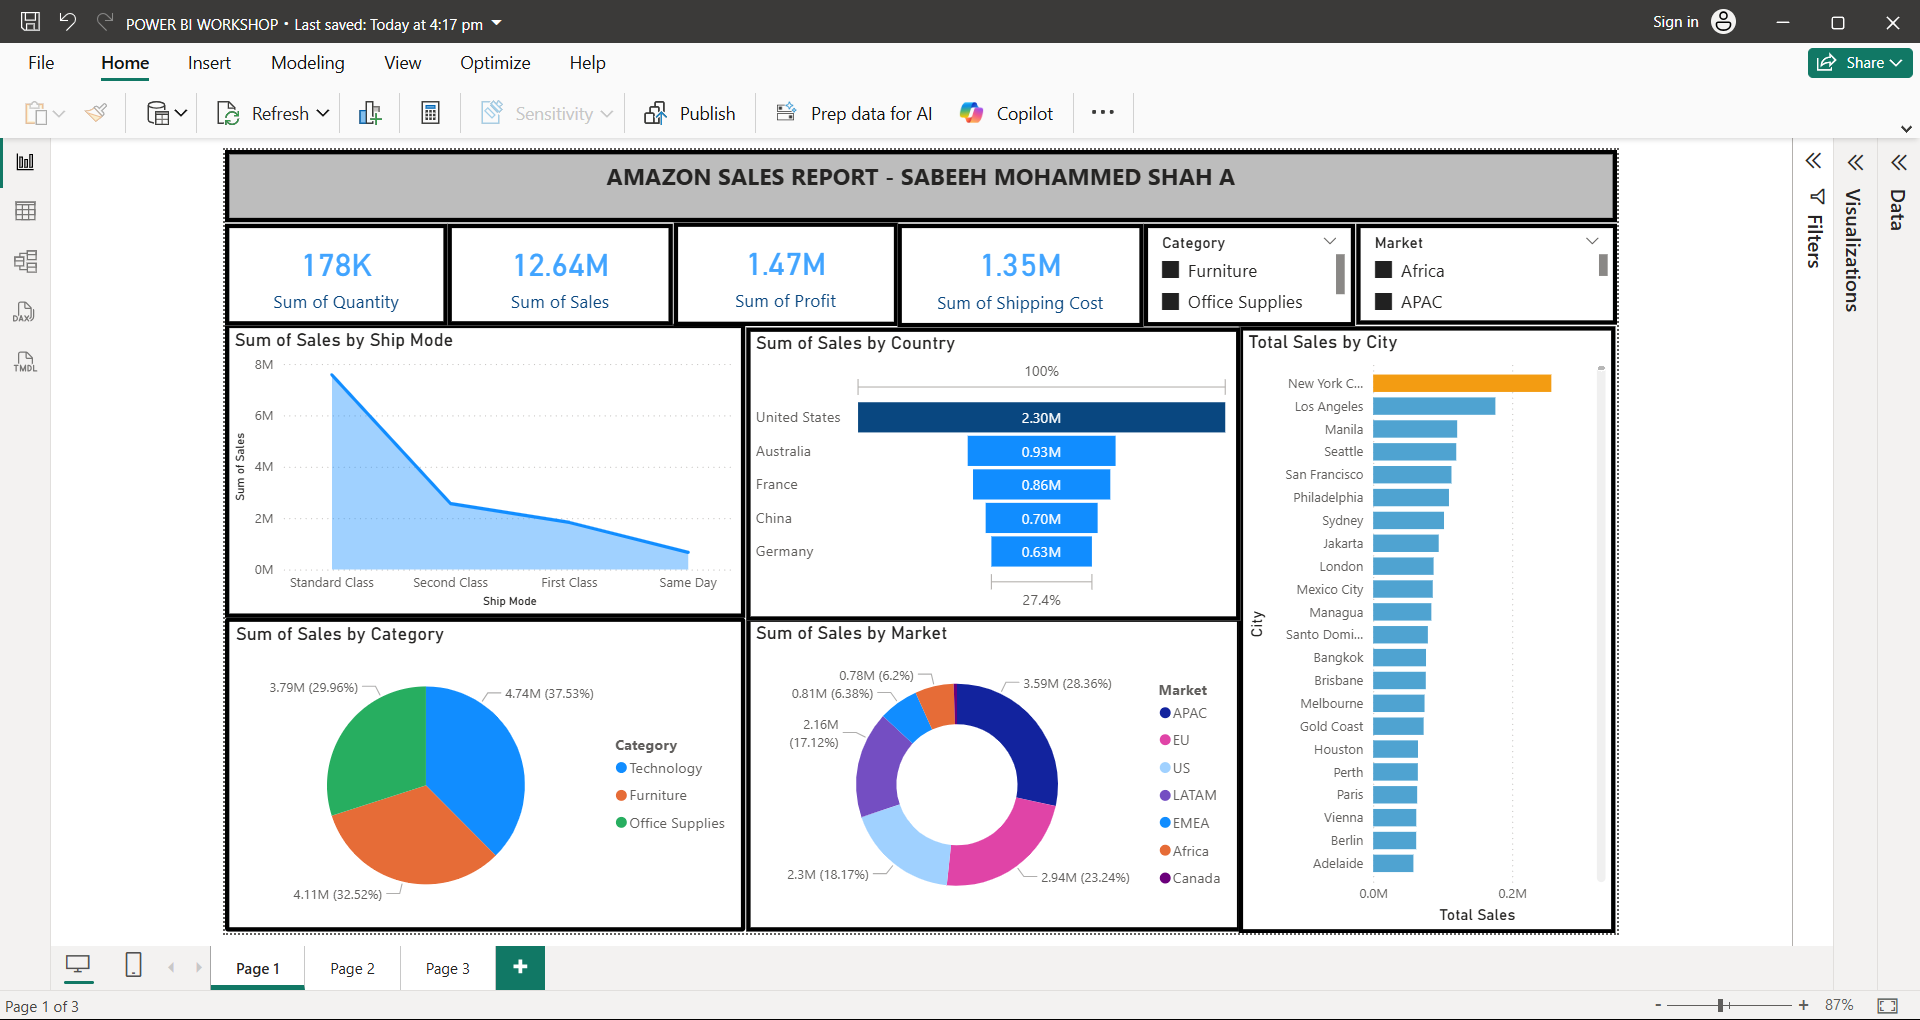

The page's visual inventory and layout, read from the dashboard file:
{"tool":"powerbi","page":{"name":"Page 1","canvas":[1280,720],"ordinal":0},"visuals":[{"type":"pieChart","fields":{"Category":["Orders.Category"],"Y":["Sum(Orders.Sales)"]},"box":[0,430,478.8,288.8],"z":0},{"type":"donutChart","fields":{"Category":["Orders.Market"],"Y":["Sum(Orders.Sales)"]},"box":[478.8,430,455,288.8],"z":1000},{"type":"areaChart","fields":{"Category":["Orders.Ship Mode"],"Y":["Sum(Orders.Sales)"]},"box":[0,160,478.8,270],"z":2000},{"type":"barChart","fields":{"Category":["Orders.City"],"Y":["Orders.Total Sales"]},"box":[932.6,161.6,346.5,558.1],"z":3000},{"type":"funnel","fields":{"Category":["Orders.Country"],"Y":["Sum(Orders.Sales)"]},"box":[479.1,162.8,454.7,269.8],"z":4000},{"type":"textbox","box":[0,0,1280,66.2],"z":5000},{"type":"card","fields":{"Values":["Sum(Orders.Quantity)"]},"box":[0,67.5,205,93.8],"z":6000},{"type":"card","fields":{"Values":["Sum(Orders.Sales)"]},"box":[205,67.5,207.5,93.8],"z":7000},{"type":"card","fields":{"Values":["Sum(Orders.Profit)"]},"box":[412.5,66.2,206.2,95],"z":8000},{"type":"card","fields":{"Values":["Sum(Orders.Shipping Cost)"]},"box":[618.8,67.5,226.2,95],"z":9000},{"type":"slicer","fields":{"Values":["Orders.Category"]},"box":[845,67.5,195,92.5],"z":10000},{"type":"slicer","fields":{"Values":["Orders.Market"]},"box":[1040,67.5,240,92.5],"z":11000}]}

Visuals, with their boxes on the page's 1280x720 design canvas (x1, y1, x2, y2). These are canvas units, not pixel positions in the 1920x1020 screenshot, which may show the page scaled, cropped or inside an application window:
pieChart - Orders.Category x Sum(Orders.Sales): Rect(0, 430, 479, 719)
donutChart - Orders.Market x Sum(Orders.Sales): Rect(479, 430, 934, 719)
areaChart - Orders.Ship Mode x Sum(Orders.Sales): Rect(0, 160, 479, 430)
barChart - Orders.City x Orders.Total Sales: Rect(933, 162, 1279, 720)
funnel - Orders.Country x Sum(Orders.Sales): Rect(479, 163, 934, 433)
textbox: Rect(0, 0, 1280, 66)
card - Sum(Orders.Quantity): Rect(0, 68, 205, 161)
card - Sum(Orders.Sales): Rect(205, 68, 412, 161)
card - Sum(Orders.Profit): Rect(412, 66, 619, 161)
card - Sum(Orders.Shipping Cost): Rect(619, 68, 845, 162)
slicer - Orders.Category: Rect(845, 68, 1040, 160)
slicer - Orders.Market: Rect(1040, 68, 1280, 160)
